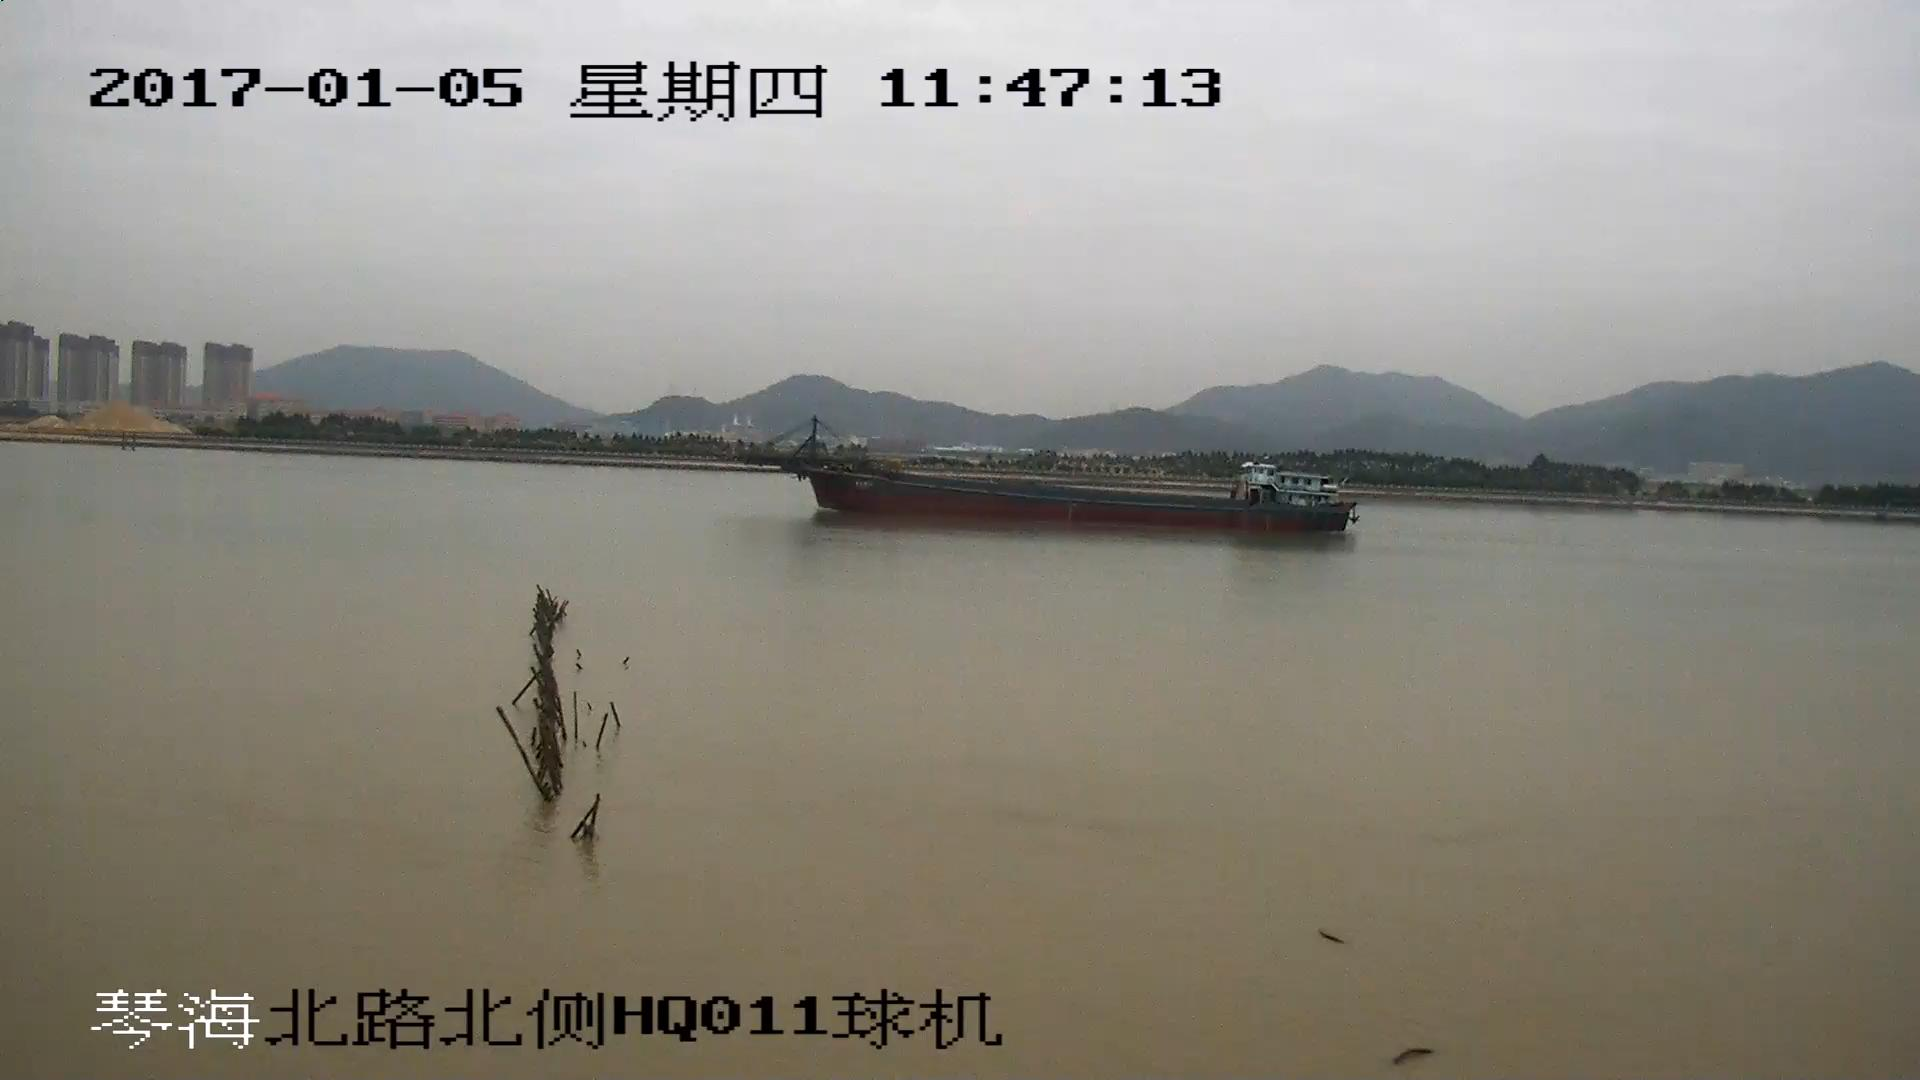bulk cargo carrier: (734, 420, 1359, 535)
